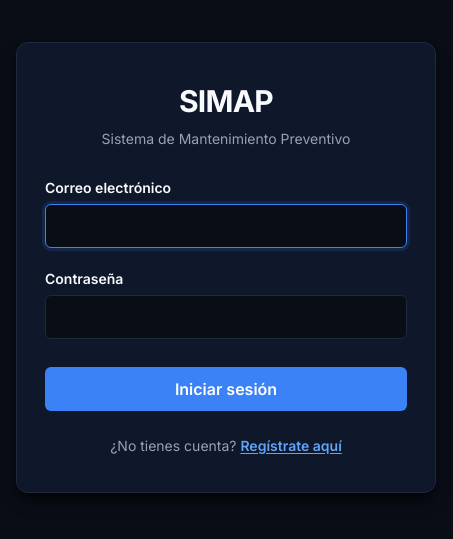
LoginPage › muestra mensajes de validación síncrona si los campos están vacíos
Click the button "Iniciar sesión".
click(226, 388)  # box [45, 366, 407, 410]
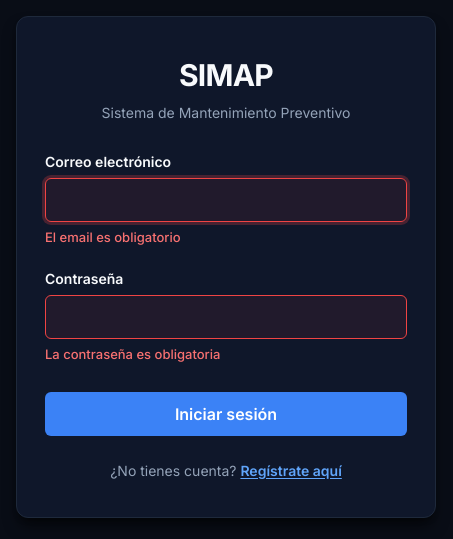
Now the text "El email es obligatorio" is shown, box [45, 229, 181, 245]
Now the text "La contraseña es obligatoria" is shown, box [45, 346, 220, 362]
